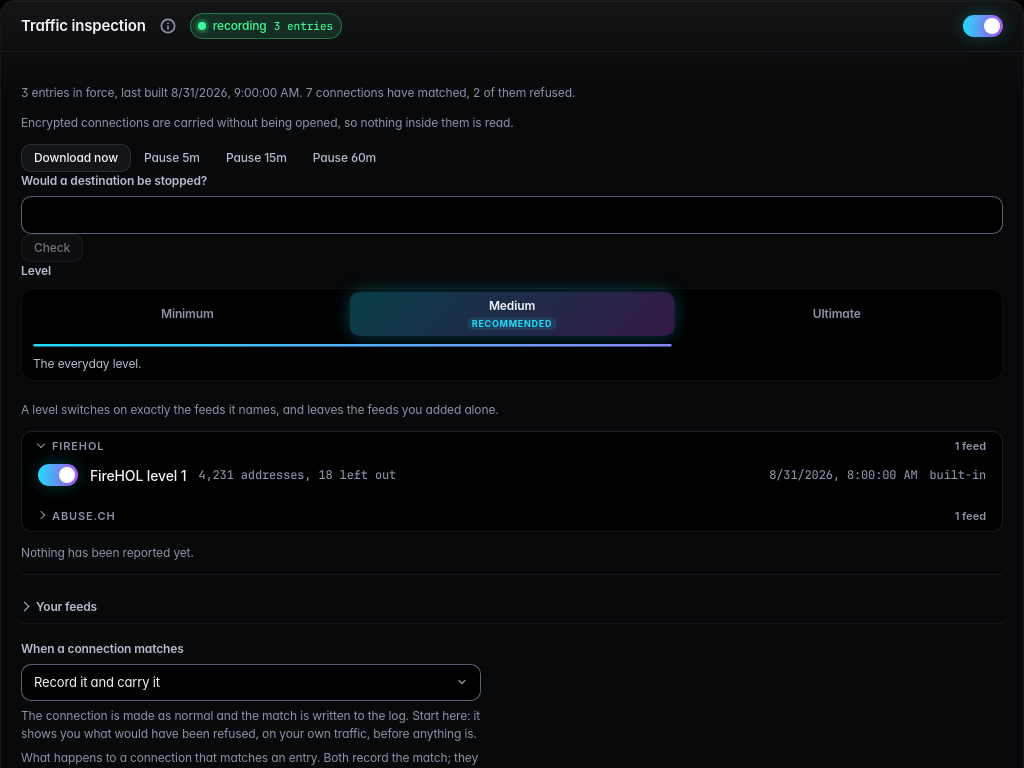
Test case: what each feed contributed › shows why a row could not be switched, and does not re-read the view
Click the checkbox named "Use FireHOL level 1": (58, 475) [38,464,78,486]
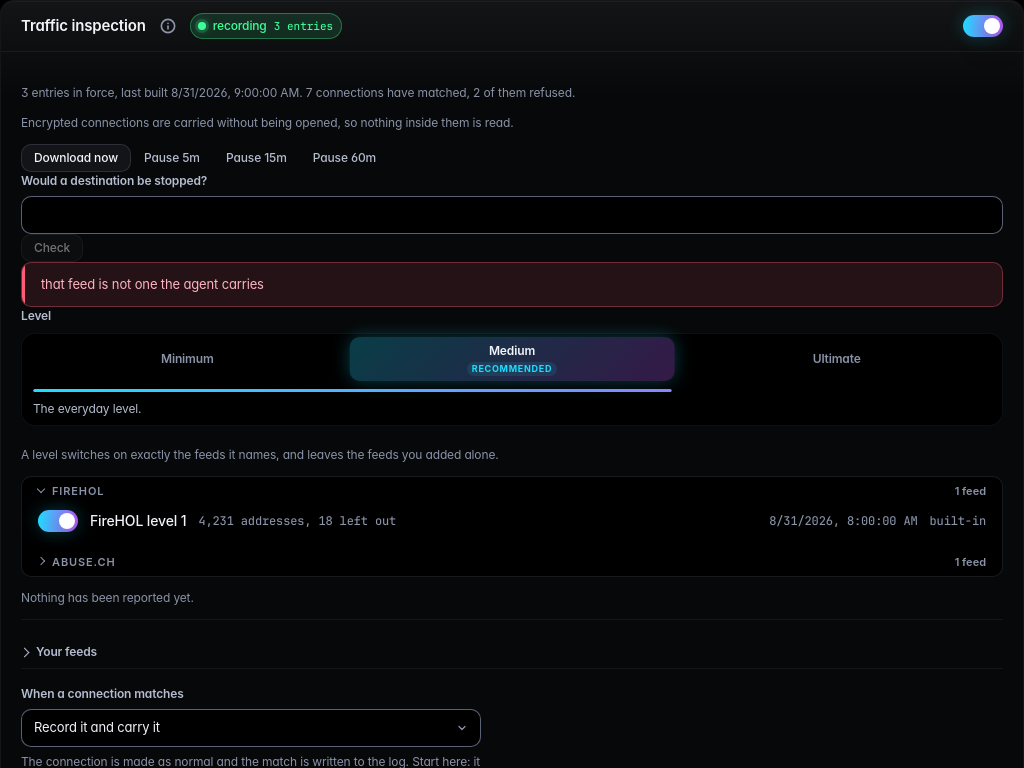
Now the text "that feed is not one the agent carries" is shown, box [21,262,1003,307]
